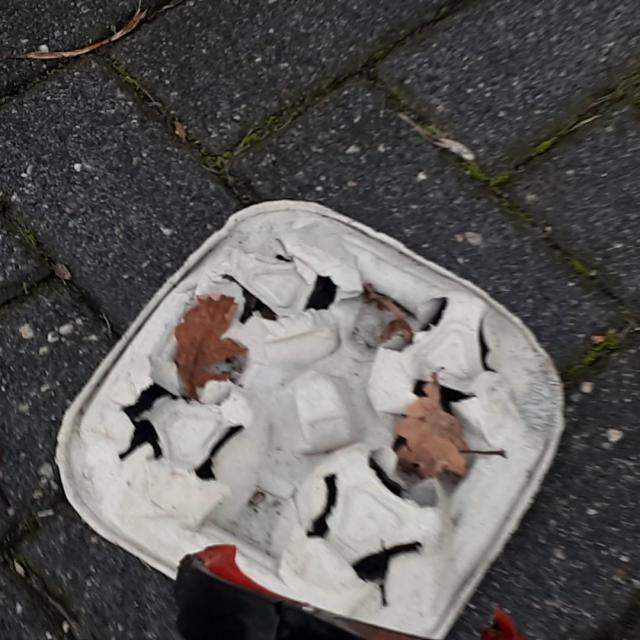Paper: (50, 188, 570, 640)
